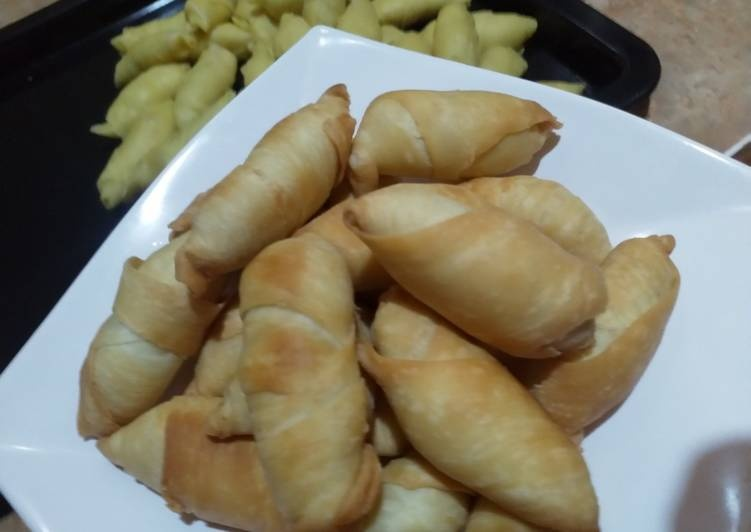pisang_molen: (362, 303, 602, 529), (341, 184, 600, 361), (240, 222, 386, 527), (185, 80, 357, 273), (351, 86, 563, 195)
